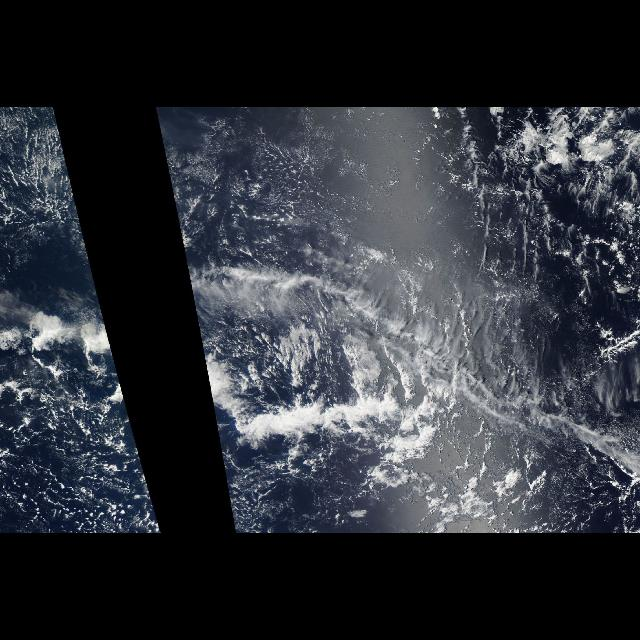Fish: (215, 244, 623, 478)
Flower: (462, 107, 616, 209)
Gravel: (1, 367, 161, 533), (0, 107, 90, 249)
Sugar: (184, 114, 450, 240)
